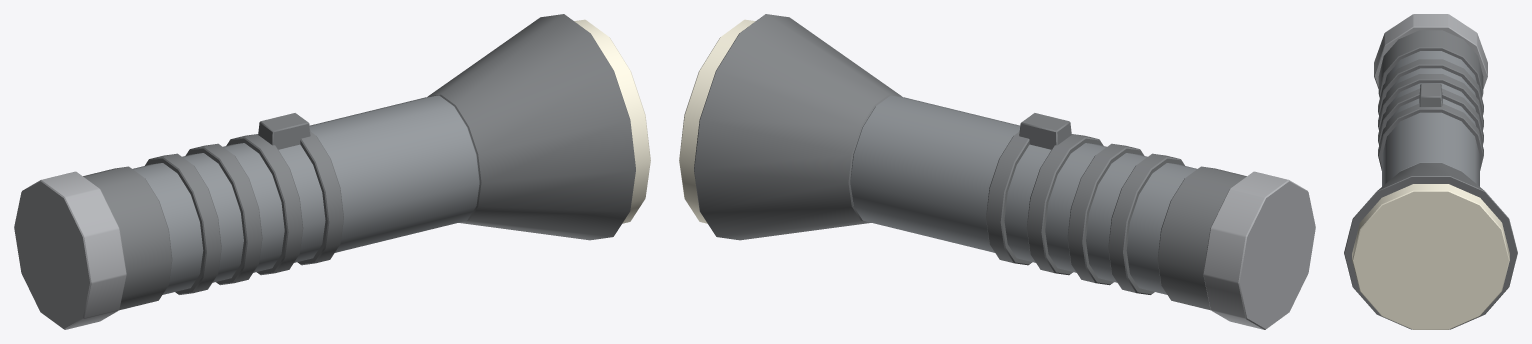
File: IT_flashlight.fbx
The picture shows the model from 3 angles, left to right: view 1: azimuth 30°, elevation 25°; view 2: azimuth 150°, elevation 25°; view 3: azimuth 270°, elevation 25°; orthographic projection. The views are drawn at different scales.
Parts seen in each view (by area): view 1: IT_flashlight; view 2: IT_flashlight; view 3: IT_flashlight.
Part boxes in pixels (bbox=[...]): IT_flashlight: bbox=[14, 14, 650, 329]; IT_flashlight: bbox=[679, 14, 1315, 329]; IT_flashlight: bbox=[1344, 14, 1517, 329].
Bounding box in the file's own units: 0.67 × 0.243 × 0.2492.
